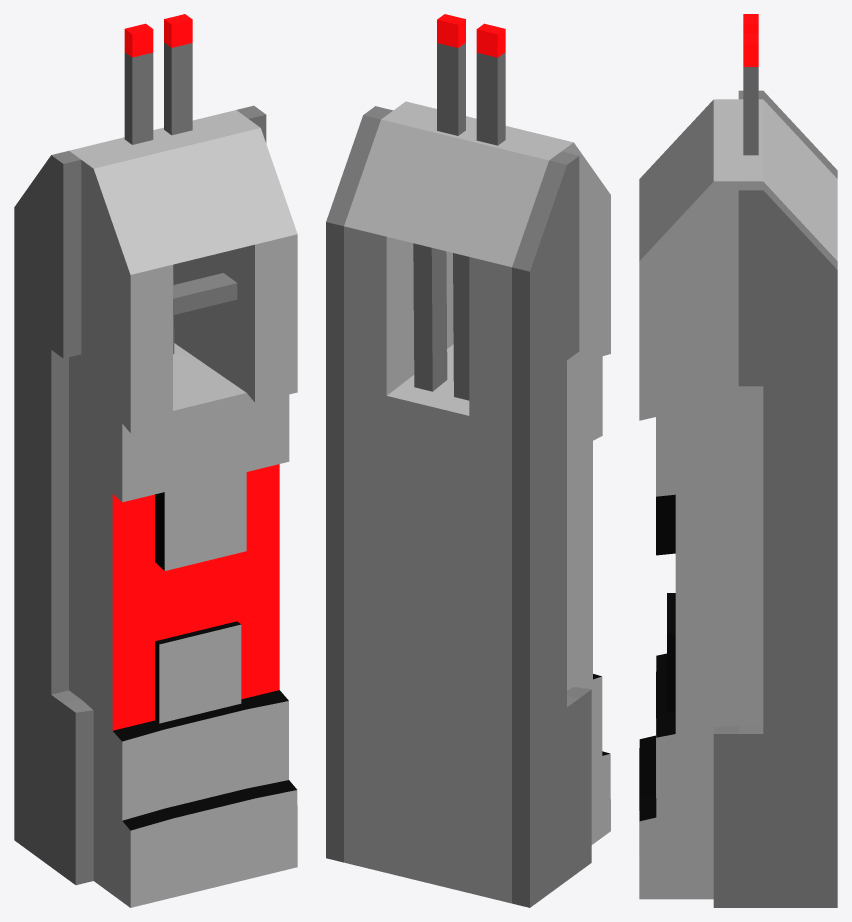
The model's file is scifi-lowpoly-building1.fbx.
3 views of the same model, side by side, from view 1: azimuth 30°, elevation 25°; view 2: azimuth 150°, elevation 25°; view 3: azimuth 270°, elevation 25° (orthographic).
Visible parts, largest first — view 1: gebouw 2; view 2: gebouw 2; view 3: gebouw 2.
Part boxes in pixels (box(x1,y1,x2,y2)): gebouw 2: box(14, 14, 297, 907); gebouw 2: box(326, 14, 610, 907); gebouw 2: box(639, 14, 837, 907).
Size of the model in its own units: 24.16 by 93.66 by 20.3.
